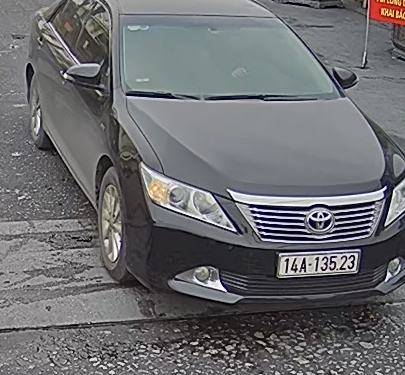vehicle plate: (275, 246, 367, 278)
